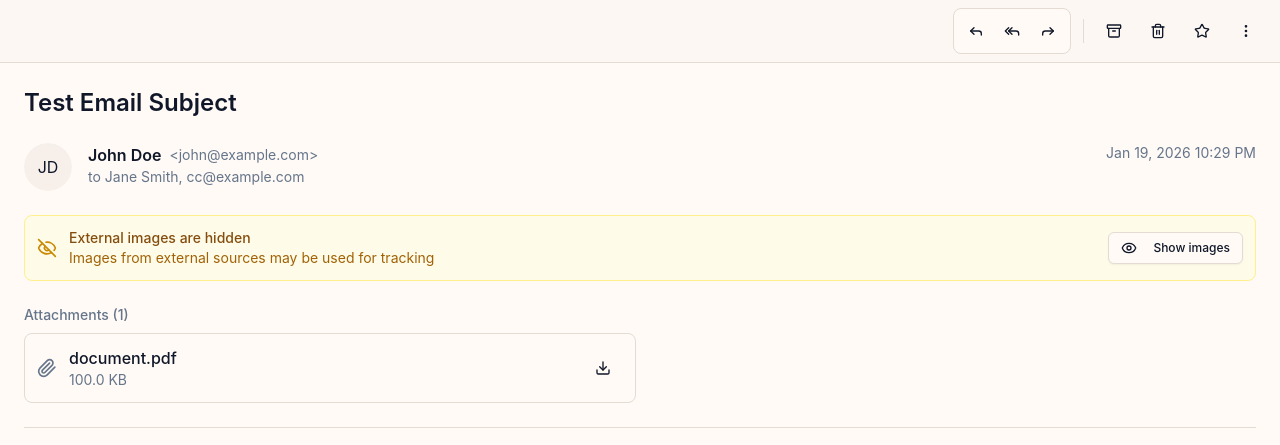
MessageView › external images warning › should hide warning when Show images is clicked
The width and height of the screenshot is (1280, 445).
Click the button "Show images" at (1176, 248), box [1108, 232, 1243, 264]
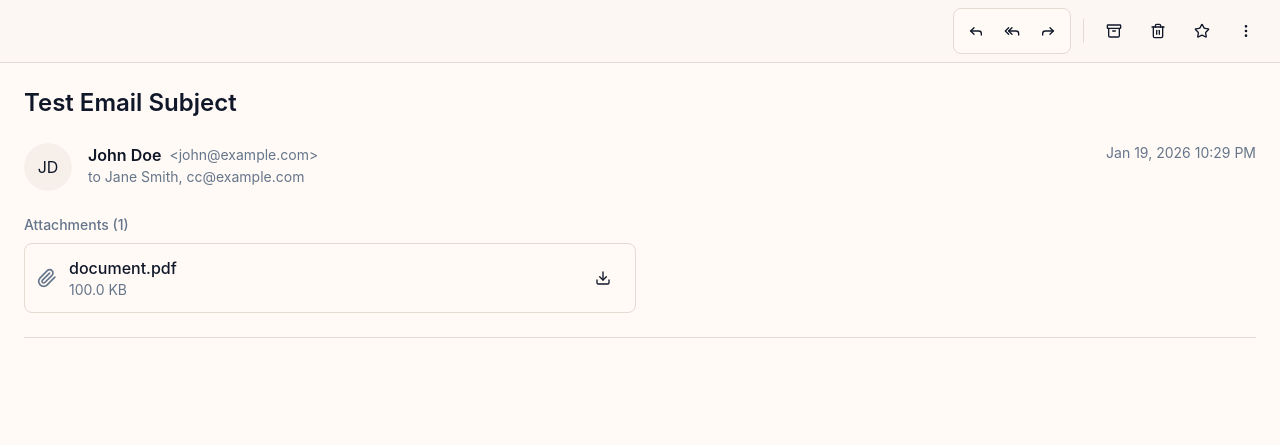
Result: the text "External images are hidden" is gone
